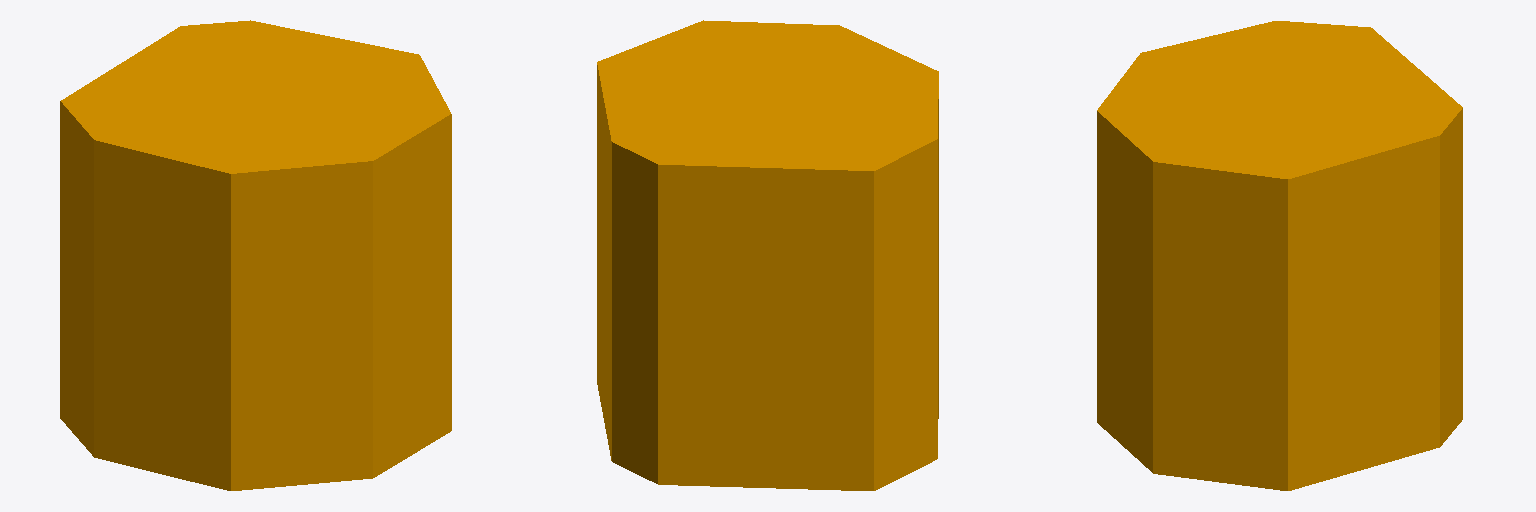
URDF robot description (object):
<?xml version="1.0"?>
<robot name="object">
  <link name="object">
    <visual>
      <origin xyz="0 0 0"/>
      <geometry>
        <mesh filename="meshes/generated/col_107.obj" scale="0.03 0.03 0.03"/>
      </geometry>
    </visual>
    <collision>
      <origin xyz="0 0 0"/>
      <geometry>
        <mesh filename="meshes/generated/col_107.obj" scale="0.03 0.03 0.03"/>
      </geometry>
    </collision>
    <inertial>
      <density value="1000.0"/>
    </inertial>
  </link>
</robot>

--- Facts derived from the render (not from the file) ---
3 views of the same robot in one strip: view 1: azimuth 30°, elevation 25°; view 2: azimuth 150°, elevation 25°; view 3: azimuth 270°, elevation 25° (orthographic).
Model object with 1 links and 0 joints (none), rooted at object, posed every joint at zero.
Visible links, largest first — view 1: object; view 2: object; view 3: object.
Link boxes in pixels (left/top/right/bottom): object: left=60, top=20, right=451, bottom=490; object: left=597, top=20, right=938, bottom=490; object: left=1097, top=21, right=1462, bottom=490.
Size in the robot's own frame: 0.0656 by 0.0639 by 0.06 metres.
Meshes: 1 distinct files referenced, 1 mesh visuals loaded (1 OBJ).
